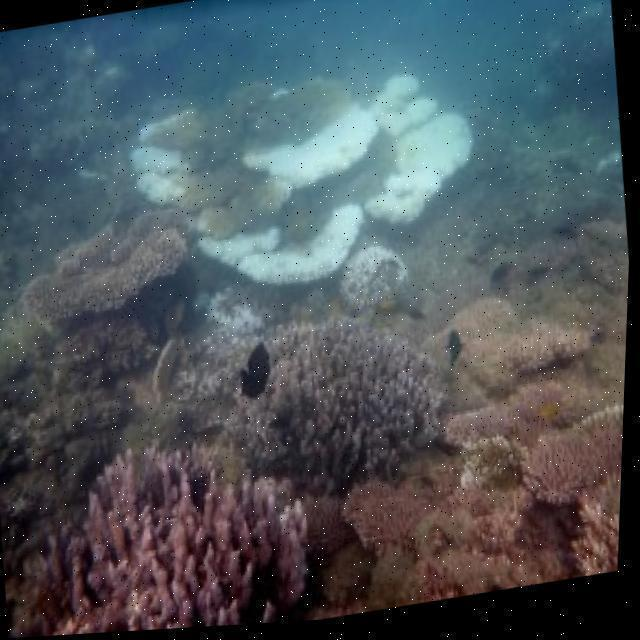Bleached Coral: (297, 42, 504, 257), (207, 168, 405, 317), (104, 78, 193, 244)
Dead Coral: (238, 324, 449, 469)
Healthy Coral: (66, 461, 300, 637)
